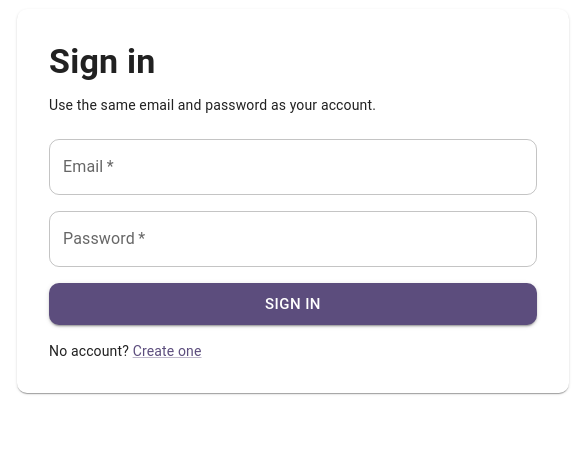
it: LoginPage › shows error when credentials are rejected
Type "x@y.z" into the field labelled "Email *" at (293, 167), box [49,139,537,195]
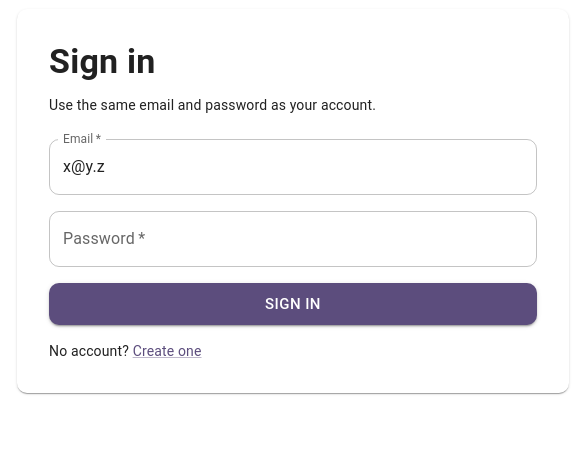
Type "wrongpass1" into the password field labelled "Password *" at (293, 239), box [49,211,537,267]
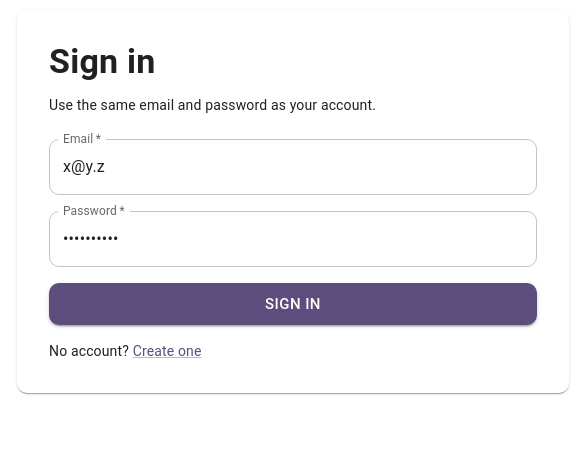
Click the button "Sign in" at (293, 304), box [49,283,537,325]
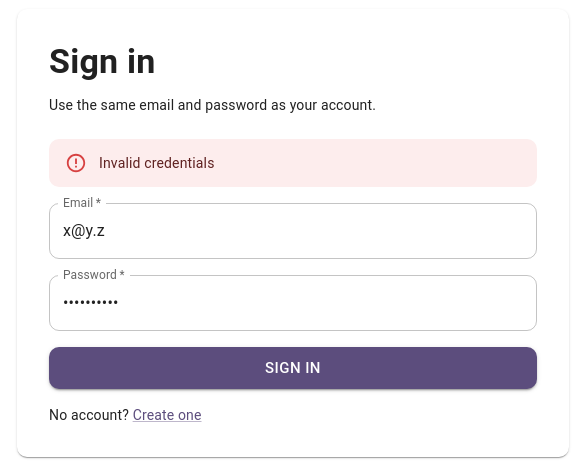
Result: the text "Invalid credentials" is shown at [99,155,214,171]
